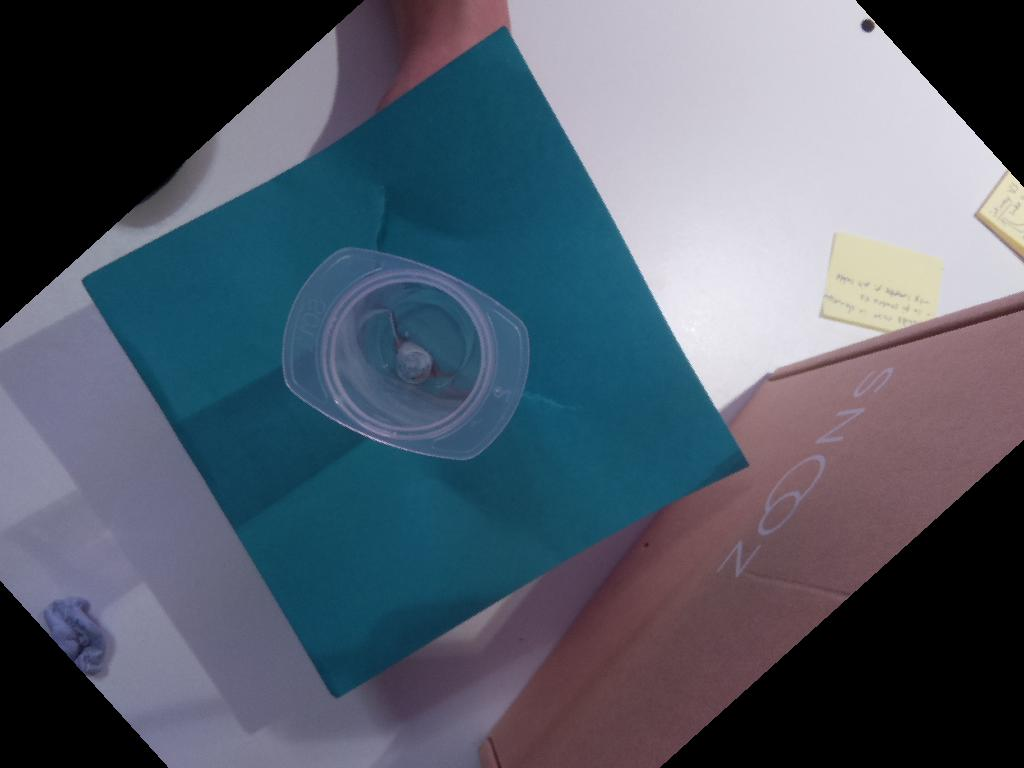clean: (272, 243, 538, 477)
